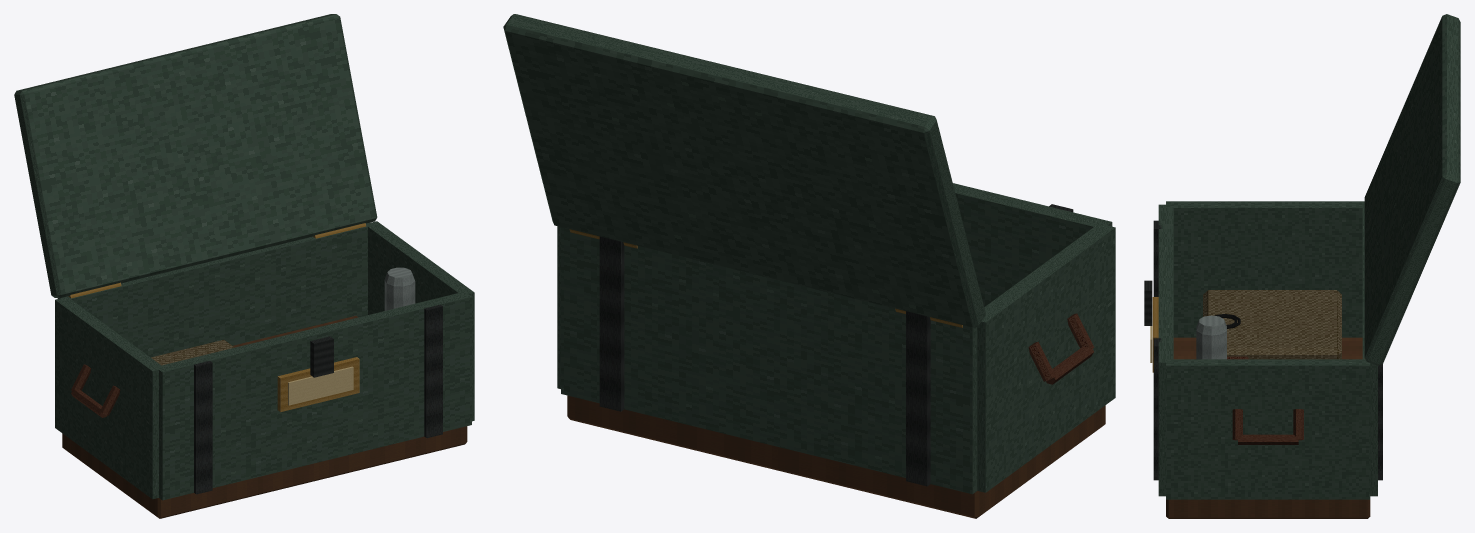
Rendered from level_work_crew_footlocker.glb.
The picture shows the model from 3 angles, left to right: view 1: azimuth 30°, elevation 25°; view 2: azimuth 150°, elevation 25°; view 3: azimuth 270°, elevation 25°; orthographic projection. The views are drawn at different scales.
Parts seen in each view (by area): view 1: level_work_crew_footlocker; view 2: level_work_crew_footlocker; view 3: level_work_crew_footlocker.
Part boxes in pixels (left/top/right/bottom): level_work_crew_footlocker: left=14, top=14, right=474, bottom=518; level_work_crew_footlocker: left=503, top=14, right=1115, bottom=518; level_work_crew_footlocker: left=1144, top=14, right=1460, bottom=518.
Size of the model in its own units: 0.996 by 0.8807 by 0.7275.
11 materials, 11 textured.
